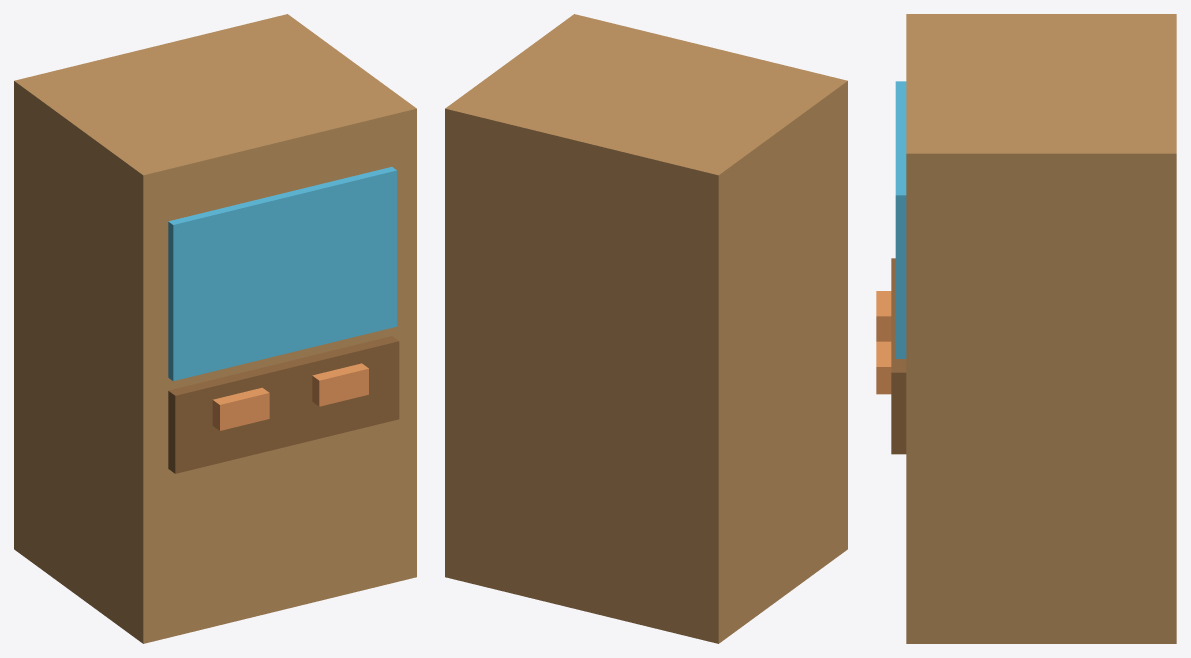
File: arcade_cabinet.glb
3 views of the same model, side by side, from view 1: azimuth 30°, elevation 25°; view 2: azimuth 150°, elevation 25°; view 3: azimuth 270°, elevation 25° (orthographic). The views are drawn at different scales.
Visible parts, largest first — view 1: arcade_cabinet; view 2: arcade_cabinet; view 3: arcade_cabinet.
Part boxes in pixels (<box>): arcade_cabinet: <box>14,14,416,643</box>; arcade_cabinet: <box>445,14,847,643</box>; arcade_cabinet: <box>876,14,1176,643</box>.
Bounding box in the file's own units: 22 × 36 × 20.
